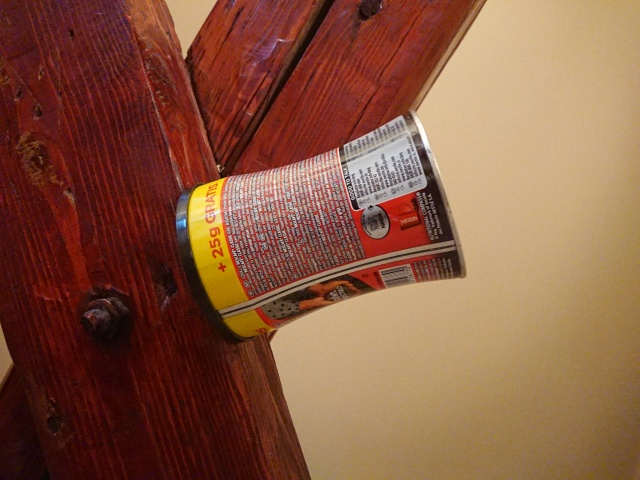Nescafe Classic 225g: (171, 106, 471, 347)
